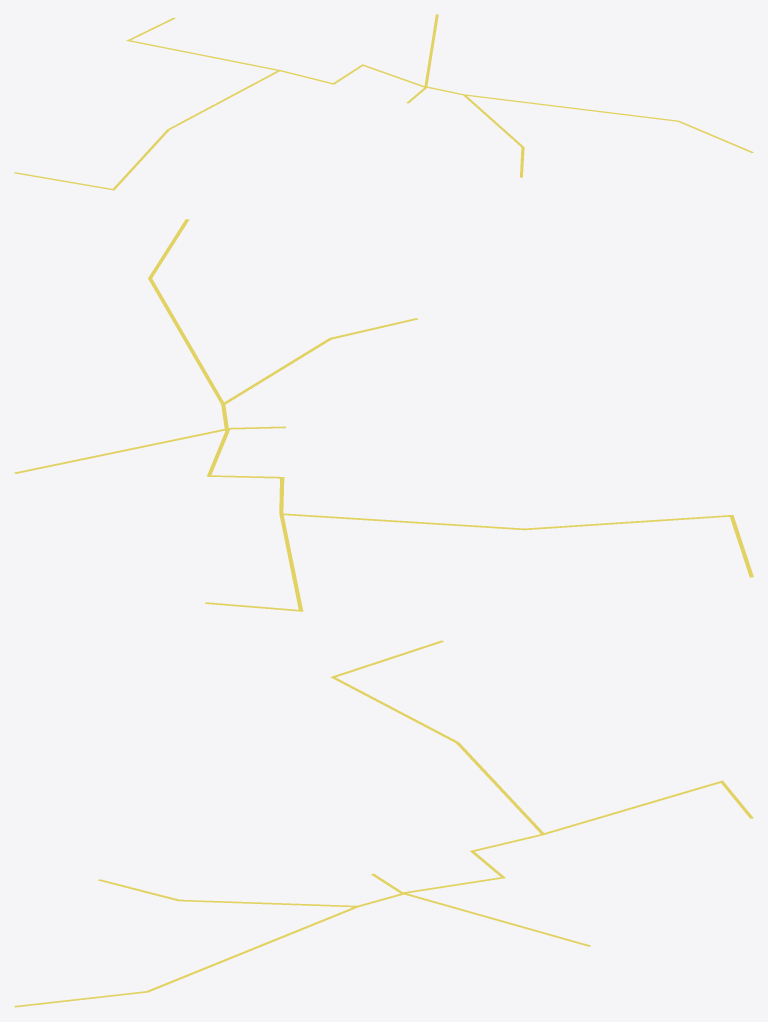
File: galaxymaprouts.dae
3 views of the same model, one above another, from view 1: azimuth 30°, elevation 25°; view 2: azimuth 150°, elevation 25°; view 3: azimuth 270°, elevation 25° (orthographic). The views are drawn at different scales.
Visible parts, largest first — view 1: MULT[GalaxymapRoutes]_LOD[0]; view 2: MULT[GalaxymapRoutes]_LOD[0]; view 3: MULT[GalaxymapRoutes]_LOD[0].
Part boxes in pixels (x1,y1,x2,y2): MULT[GalaxymapRoutes]_LOD[0]: (14,14,753,190); MULT[GalaxymapRoutes]_LOD[0]: (14,219,753,611); MULT[GalaxymapRoutes]_LOD[0]: (14,640,753,1007).
Size of the model in its own units: 2073 by 0.000129 by 1766.
